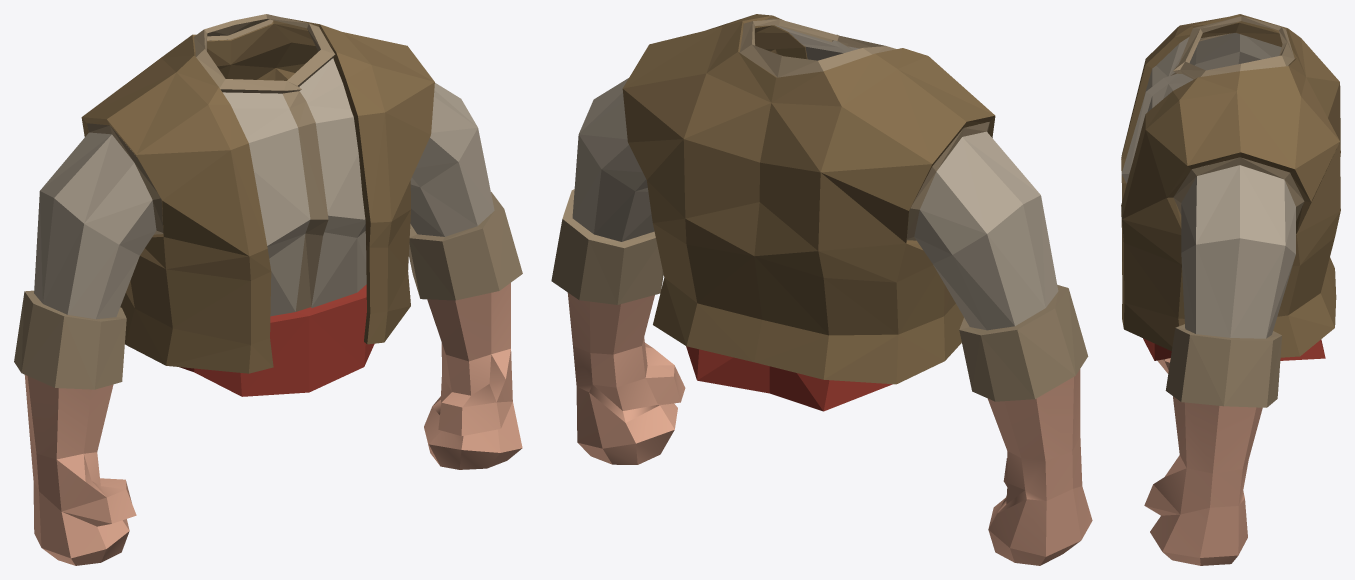
File: CommonClothChestplate.dae
The picture shows the model from 3 angles, left to right: view 1: azimuth 30°, elevation 25°; view 2: azimuth 150°, elevation 25°; view 3: azimuth 270°, elevation 25°; orthographic projection. The views are drawn at different scales.
Visible parts, largest first — view 1: Cloth2Chest; view 2: Cloth2Chest; view 3: Cloth2Chest.
Part boxes in pixels (box(x1,y1,x2,y2)): Cloth2Chest: box(14, 14, 522, 565); Cloth2Chest: box(551, 14, 1092, 565); Cloth2Chest: box(1121, 14, 1340, 565).
Size of the model in its own units: 5.09 by 2.11 by 4.58.
